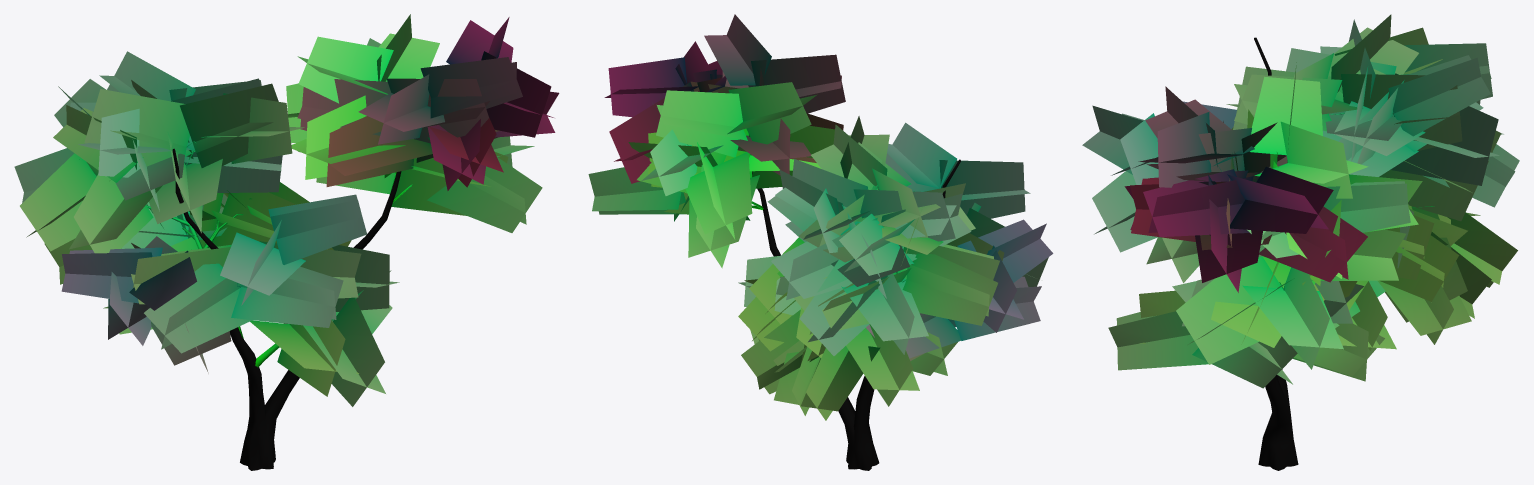
File: M_Realistic12_13.fbx
3 views of the same model, side by side, from view 1: azimuth 30°, elevation 25°; view 2: azimuth 150°, elevation 25°; view 3: azimuth 270°, elevation 25° (orthographic). The views are drawn at different scales.
Visible parts, largest first — view 1: Tree_13; view 2: Tree_13; view 3: Tree_13.
Part boxes in pixels (left/top/right/bottom): Tree_13: left=14, top=14, right=559, bottom=470; Tree_13: left=588, top=14, right=1053, bottom=470; Tree_13: left=1082, top=14, right=1519, bottom=470.
Bounding box in the file's own units: 1737 × 1426 × 1294.
